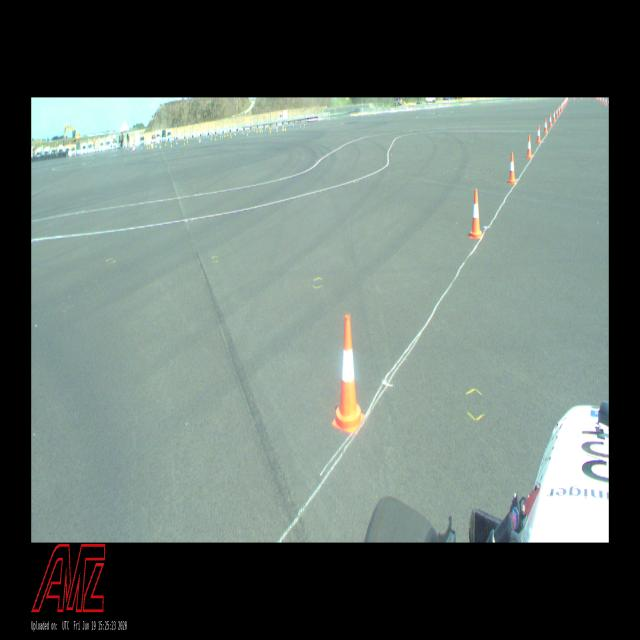orange_cone: (332, 314, 364, 434), (470, 189, 482, 238), (508, 152, 516, 184), (526, 136, 532, 158), (536, 125, 540, 144), (544, 119, 547, 133), (549, 114, 552, 127), (553, 110, 556, 122), (556, 108, 558, 117), (558, 106, 560, 114), (605, 97, 607, 105), (560, 104, 562, 112), (603, 97, 605, 104), (601, 97, 603, 103), (608, 100, 609, 106)
